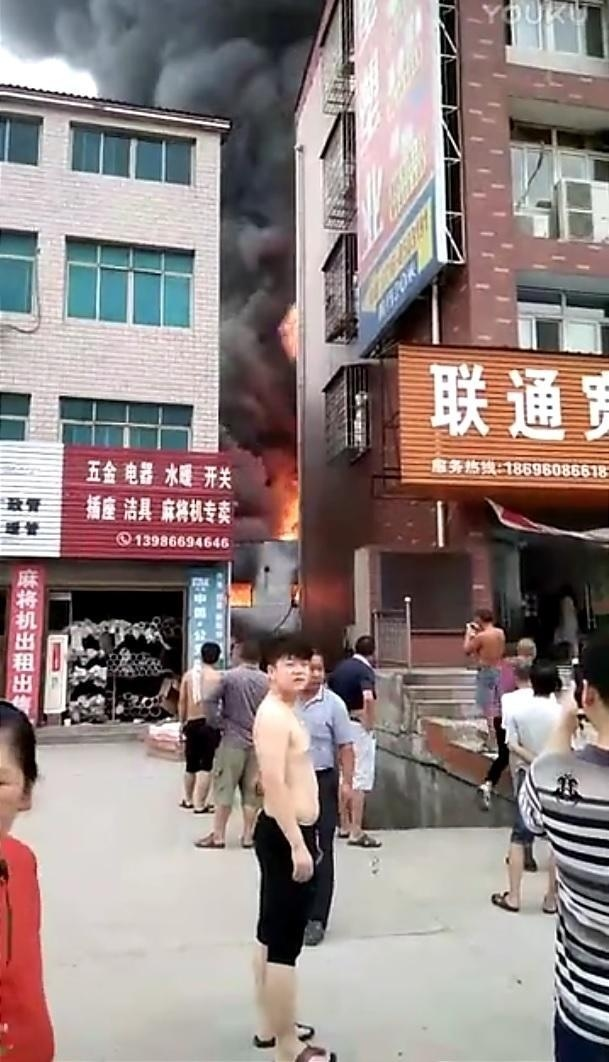fire: (276, 302, 301, 356), (228, 579, 254, 606)
